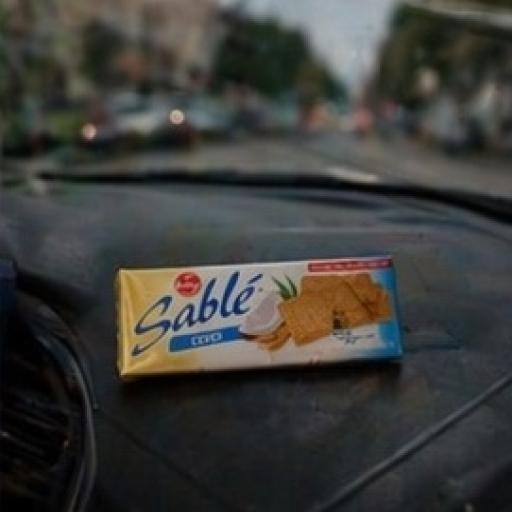sabl: (82, 190, 456, 440)
